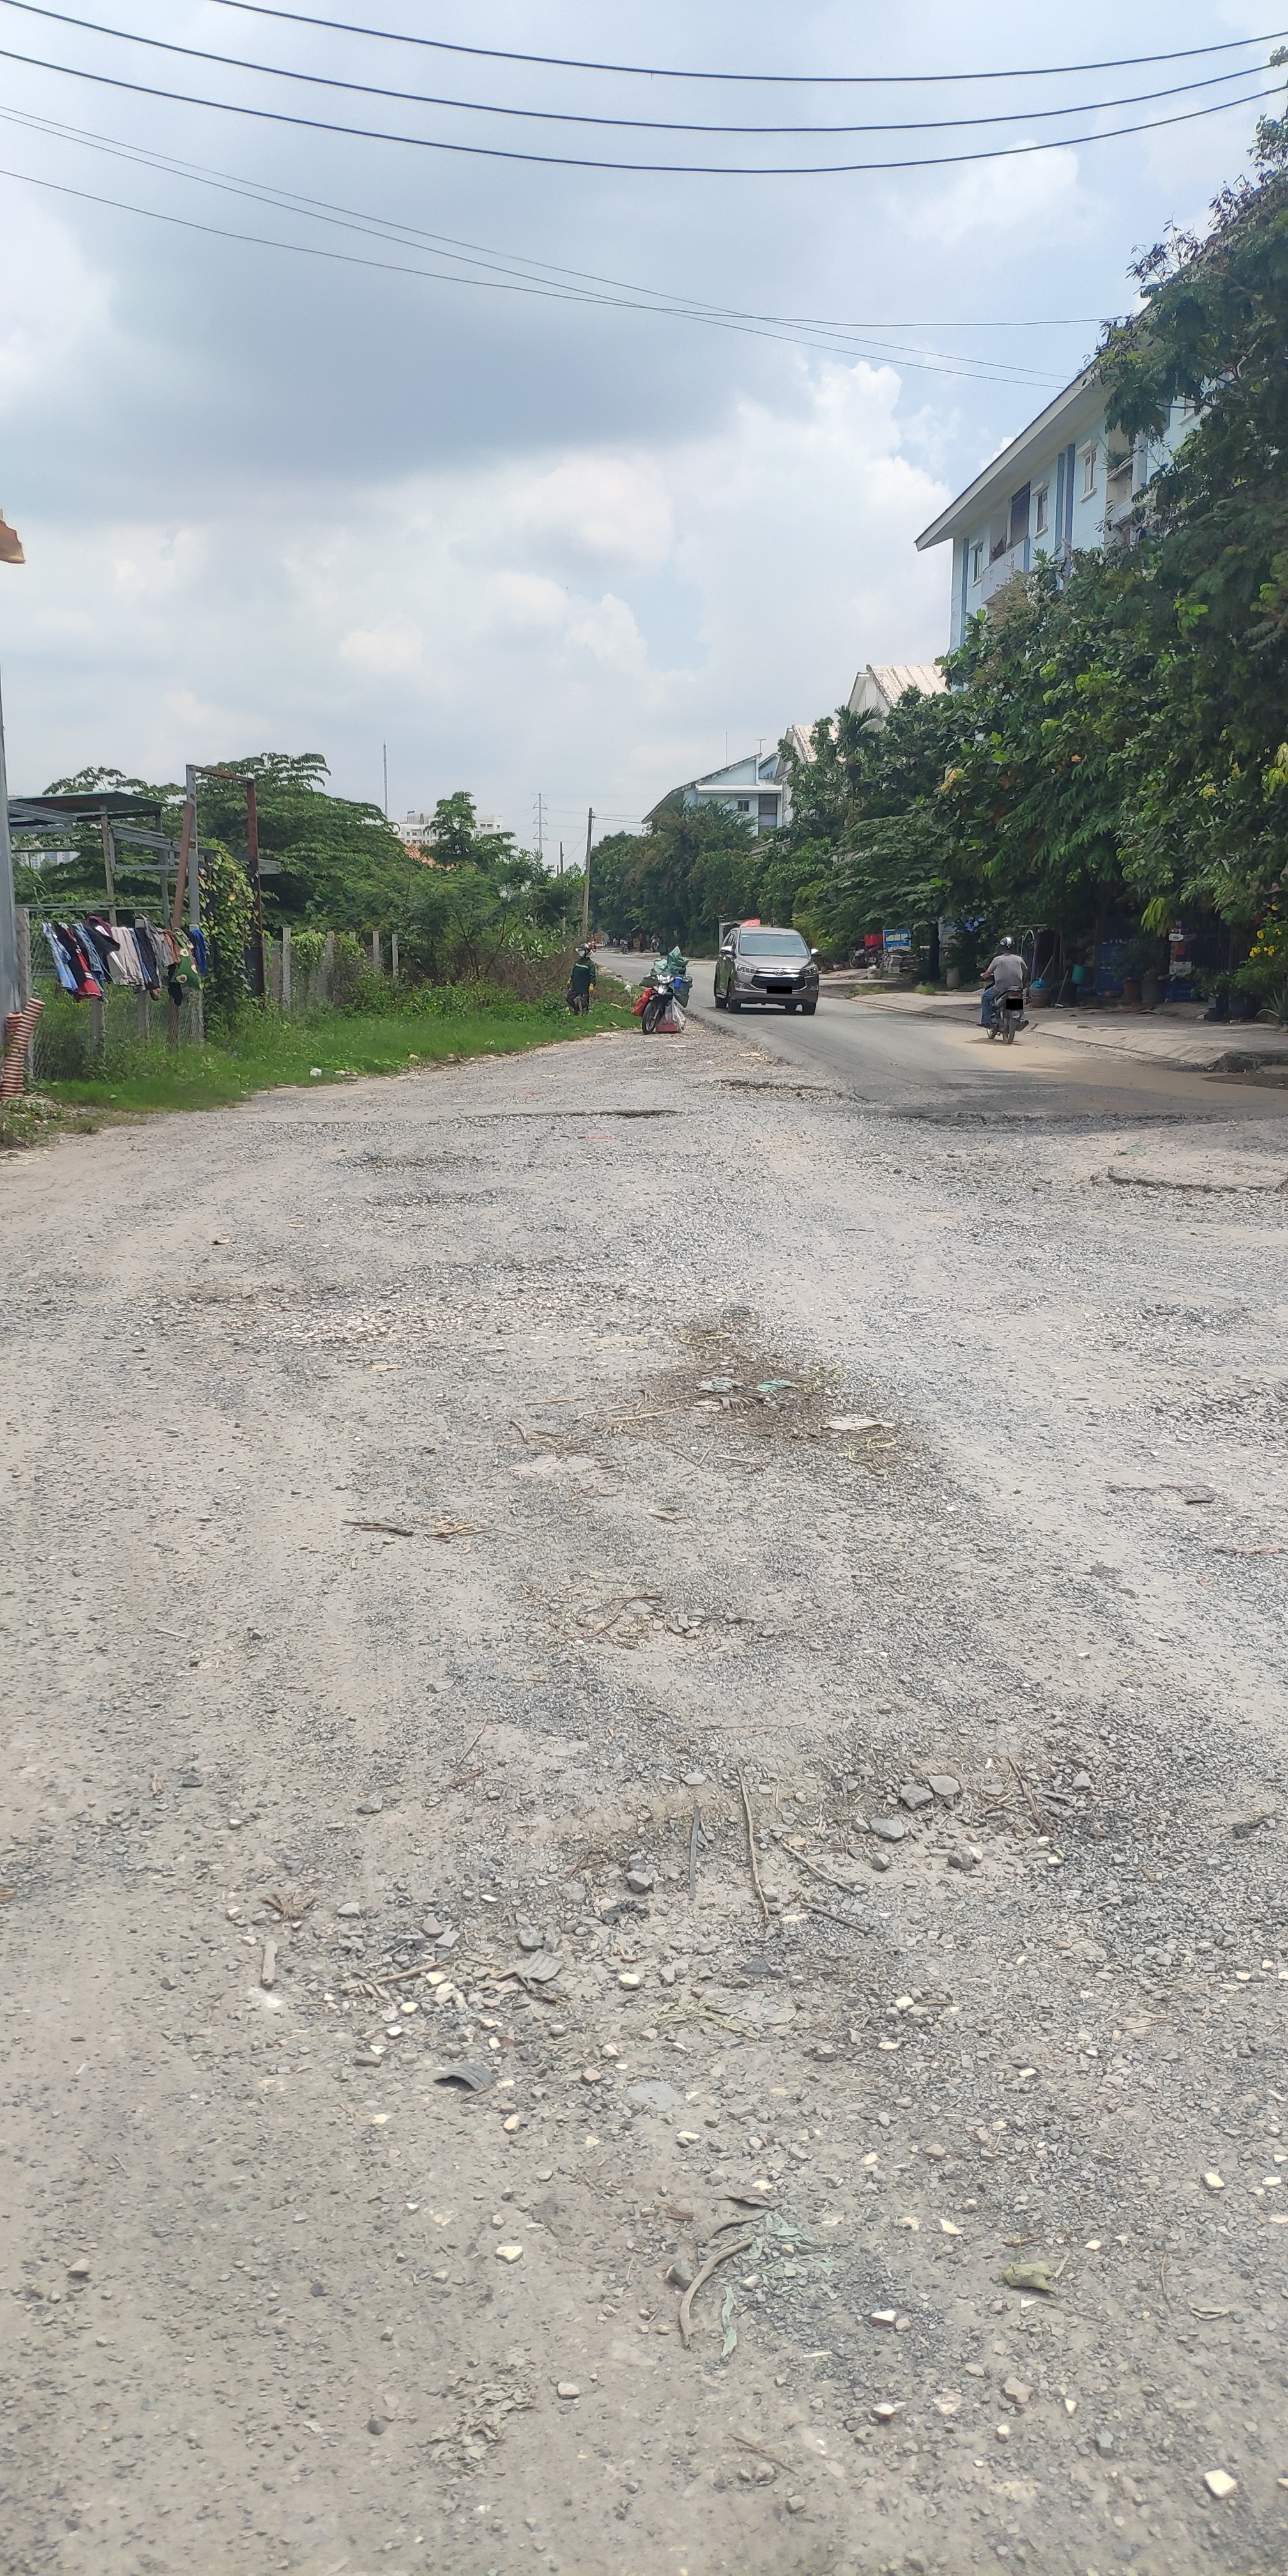hole: (1142, 1370, 1288, 1460), (1084, 1165, 1288, 1229), (900, 1104, 1219, 1138), (1117, 1291, 1268, 1344), (485, 1104, 690, 1122), (8, 1270, 115, 1304), (345, 1153, 490, 1176), (723, 1078, 841, 1104), (376, 1193, 486, 1211)
